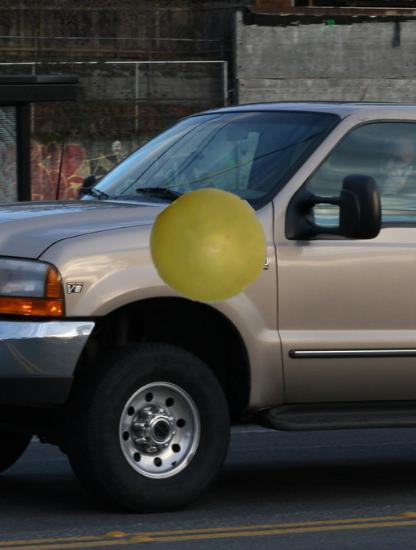Grape: (152, 189, 268, 305)
